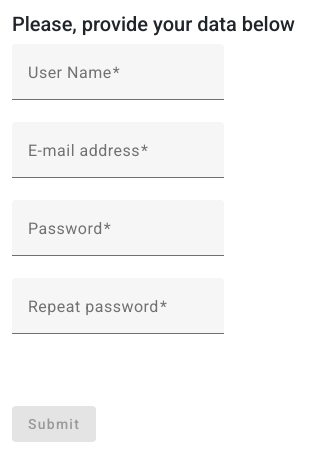
RegistrationComponent › enables submit only once the form is valid
Expected: the submit button is disabled, [12, 406, 96, 442]
Type "jane" into the field labelled "User Name".
click(118, 80); type("jane")  # box [28, 68, 208, 92]
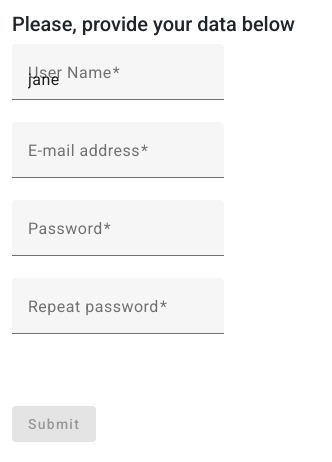
Type "jane@example.com" into the field labelled "E-mail address".
click(118, 158); type("jane@example.com")  # box [28, 146, 208, 170]
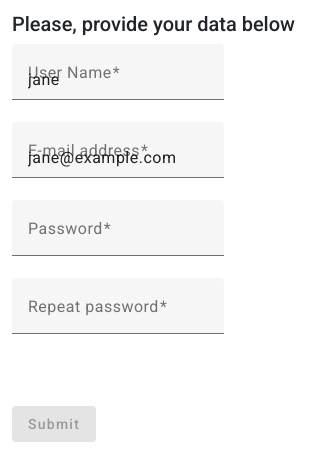
Type "Secret1!" into the password field labelled "Password".
click(118, 236); type("Secret1!")  # box [28, 224, 208, 248]
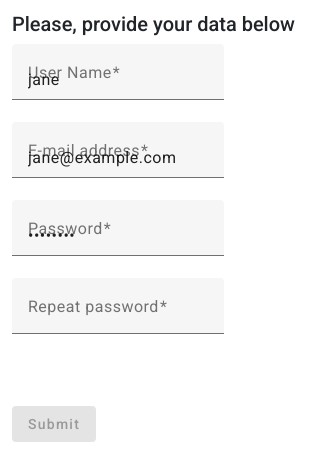
Type "Secret1!" into the password field labelled "Repeat password".
click(118, 314); type("Secret1!")  # box [28, 302, 208, 326]
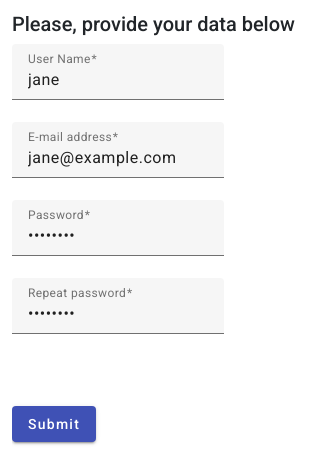
Result: the submit button is enabled at [12, 406, 96, 442]
